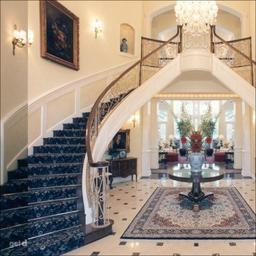Escaleras: (2, 39, 173, 253)
